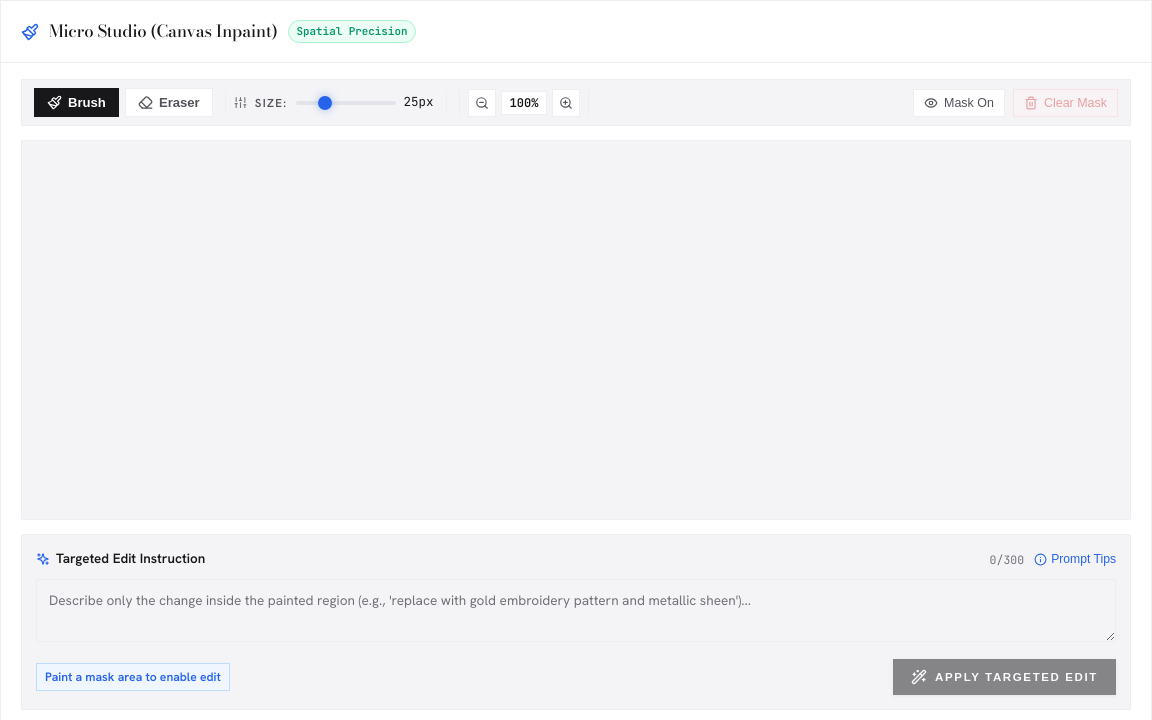
Test case: CanvasStudio Component › allows zooming in, zooming out, and resetting zoom
Expected: the button named "Reset Zoom" reads "100%", x1=500 y1=91 x2=547 y2=115
Click the button named "Zoom In": click(566, 103) x1=552 y1=89 x2=580 y2=117
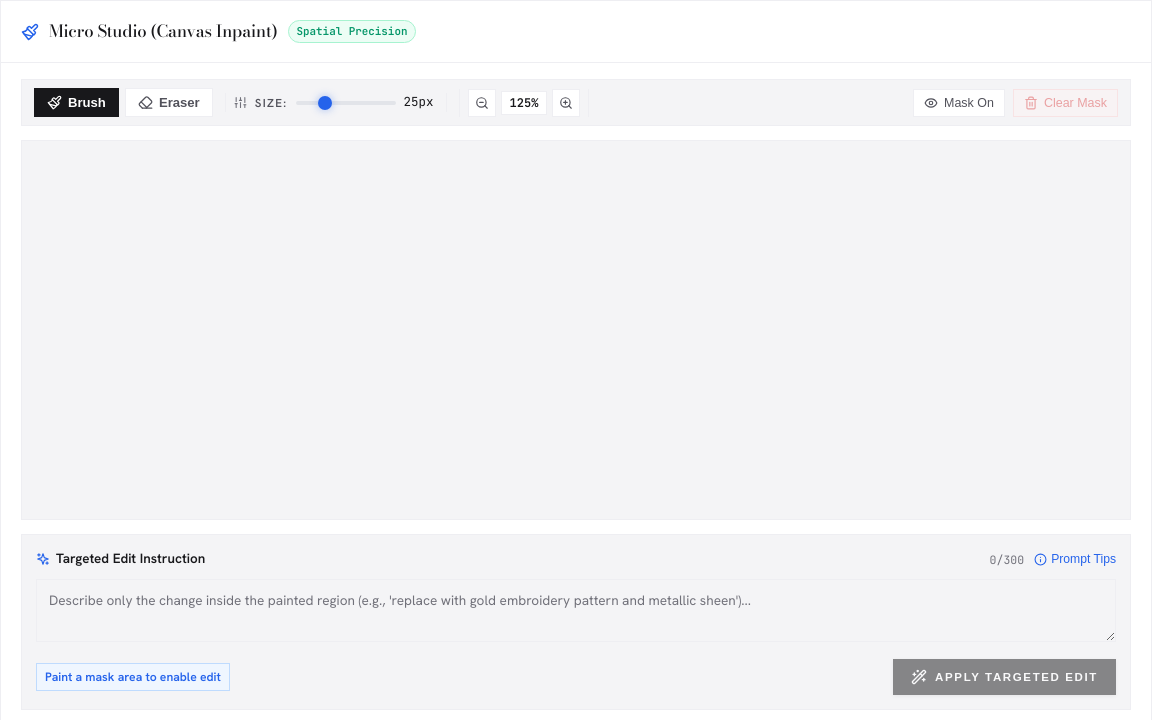
Now the button named "Reset Zoom" reads "125%", box x1=500 y1=91 x2=547 y2=115
Click the button named "Zoom In": click(566, 103) x1=552 y1=89 x2=580 y2=117
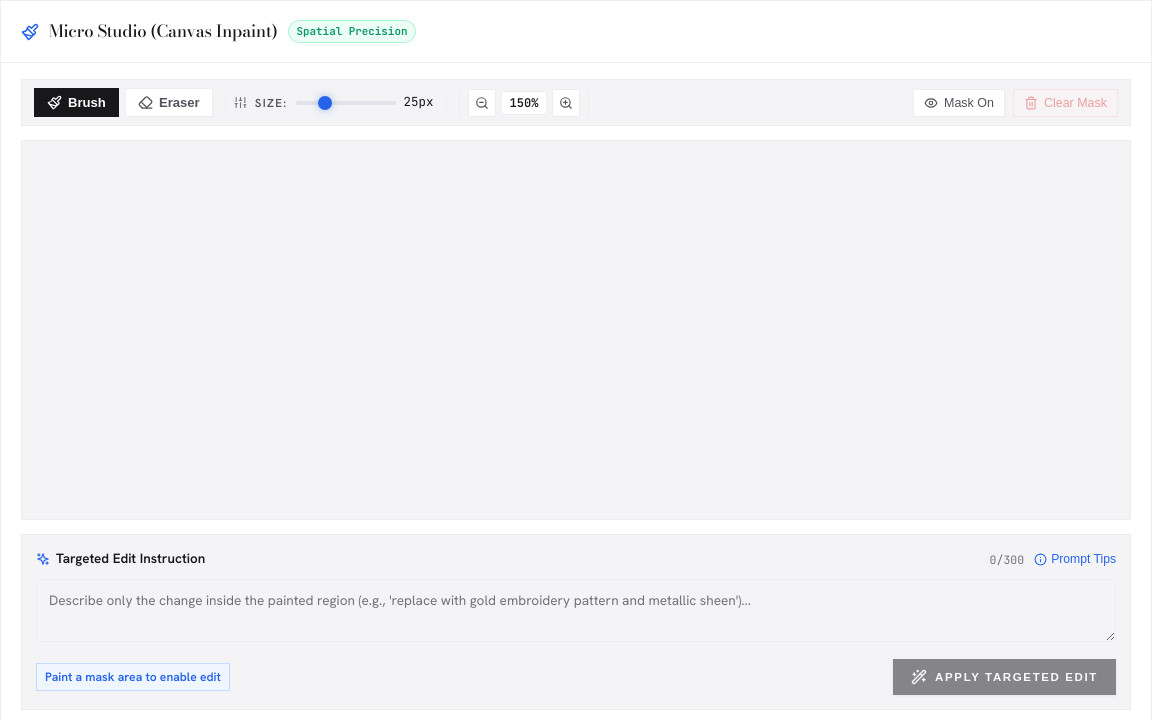
Now the button named "Reset Zoom" reads "150%", box x1=500 y1=91 x2=547 y2=115
Click the button named "Zoom Out": click(482, 103) x1=468 y1=89 x2=496 y2=117
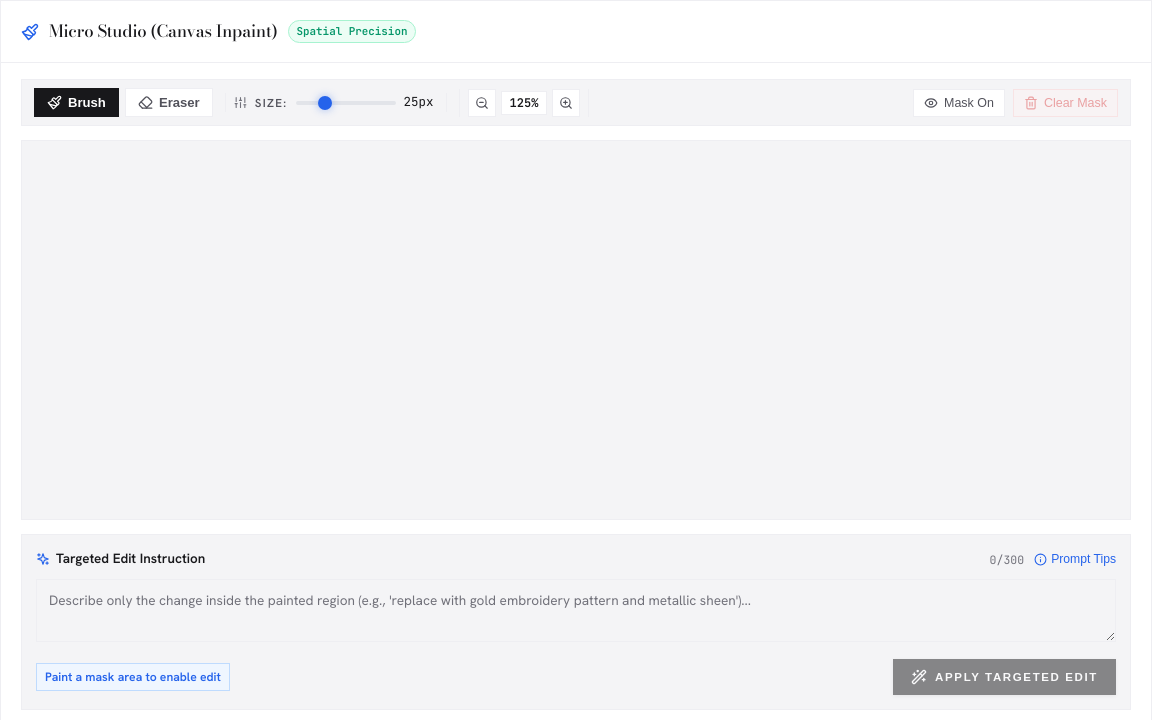
Now the button named "Reset Zoom" reads "125%"
Click the button named "Reset Zoom": click(524, 103) x1=500 y1=91 x2=547 y2=115
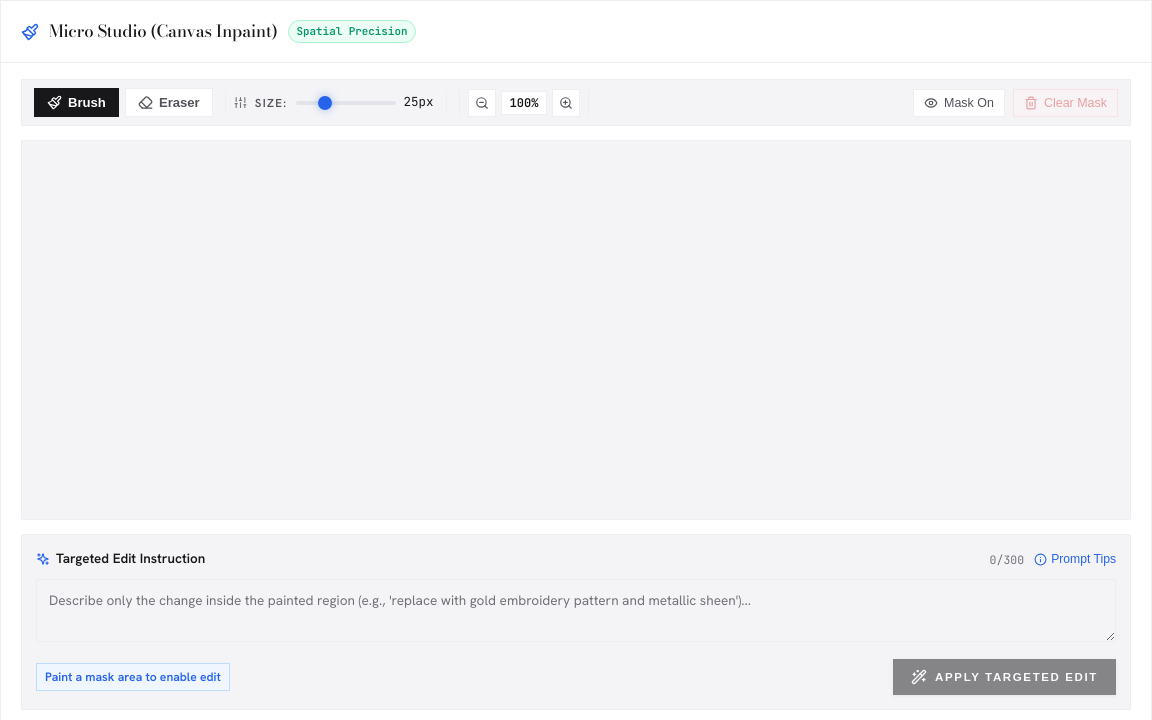
Now the button named "Reset Zoom" reads "100%", box x1=500 y1=91 x2=547 y2=115
